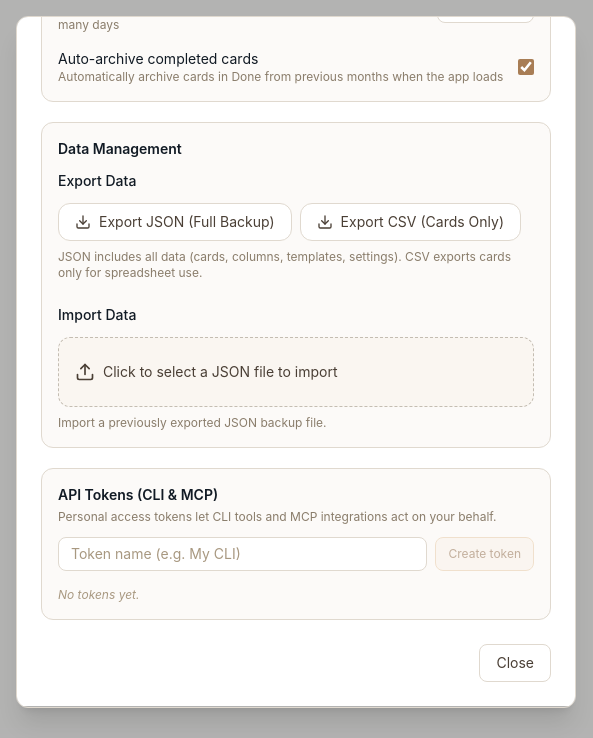
it: SettingsPanel — API Tokens section › create token › shows a copy button for the revealed token
(page scrolled)
Check: the text "No tokens yet." is shown, box [58, 587, 140, 602]
Type "CLI" into the field with placeholder "Token name (e.g. My CLI)" at (243, 554), box [58, 537, 428, 571]
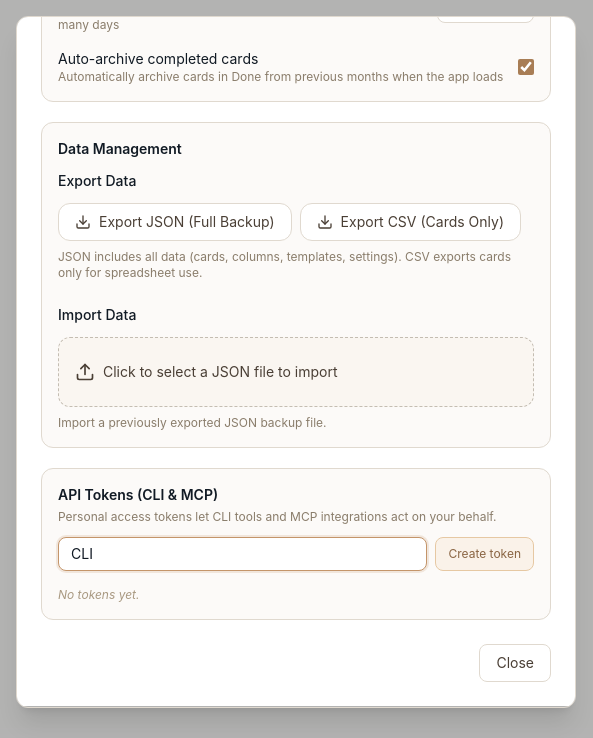
Click the button "Create token" at (485, 554), box [436, 537, 534, 571]
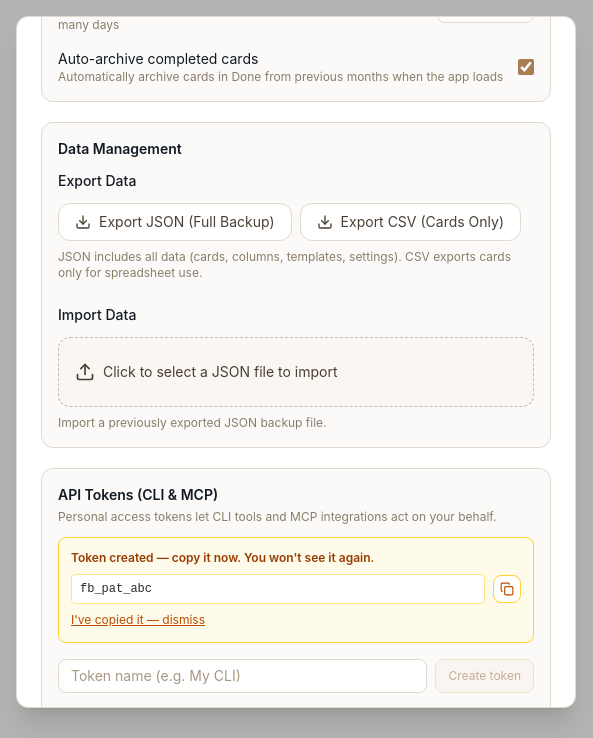
Check: the button named "copy token" is shown, box [493, 575, 521, 603]
